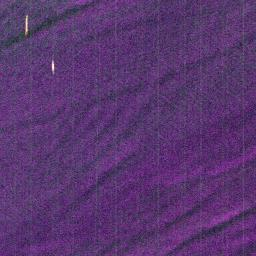Ship: (49, 57, 56, 76), (24, 14, 29, 34)
